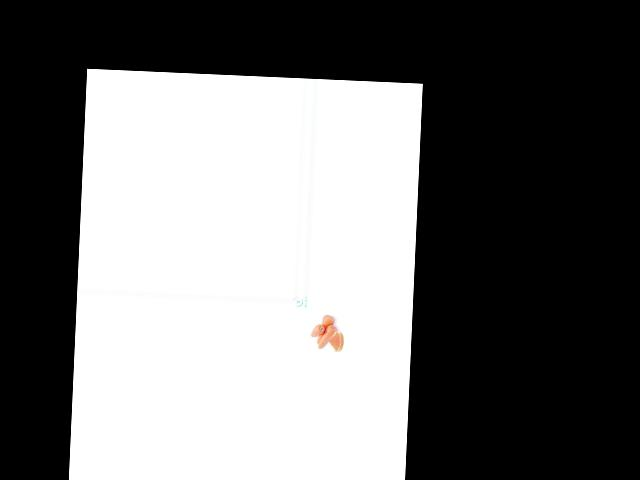carrot: (316, 324, 335, 350)
